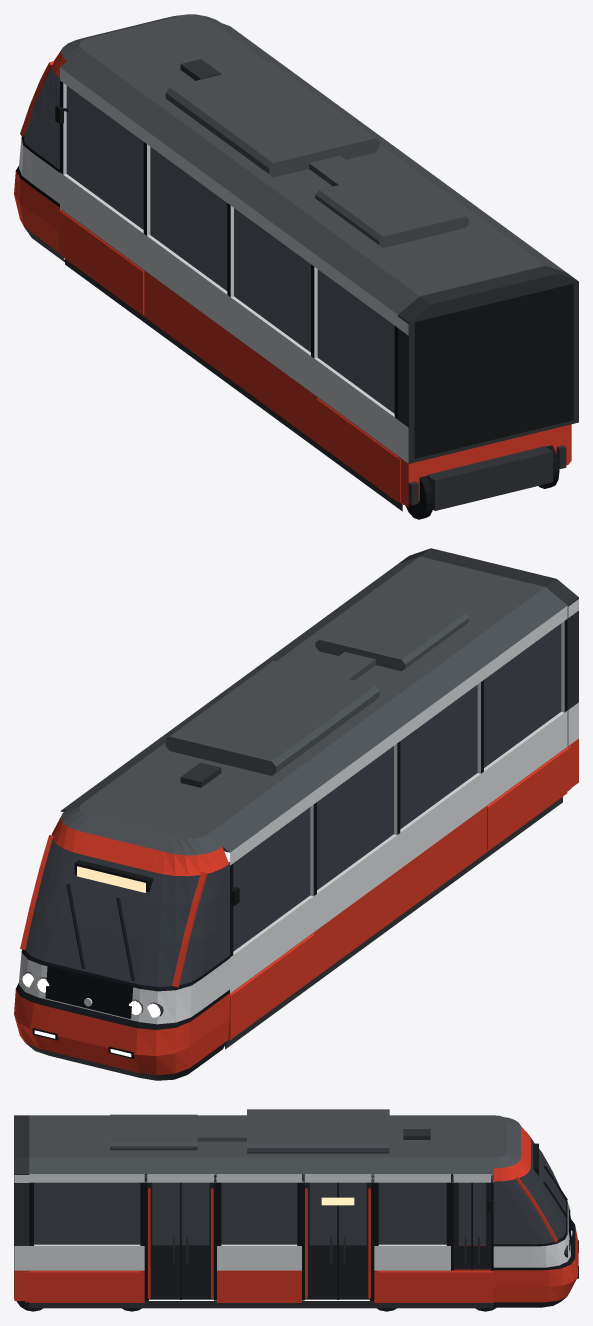
The picture shows the model from 3 angles, top to bottom: view 1: azimuth 30°, elevation 25°; view 2: azimuth 150°, elevation 25°; view 3: azimuth 270°, elevation 25°; orthographic projection. The views are drawn at different scales.
Parts seen in each view (by area): view 1: 15t-a; view 2: 15t-a; view 3: 15t-a.
Boxes of the visible parts, <box> form: 15t-a: <box>14,14,578,519</box>; 15t-a: <box>14,548,578,1080</box>; 15t-a: <box>14,1109,578,1311</box>.
Bounding box in the file's own units: 2.6 × 3.28 × 10.31.
